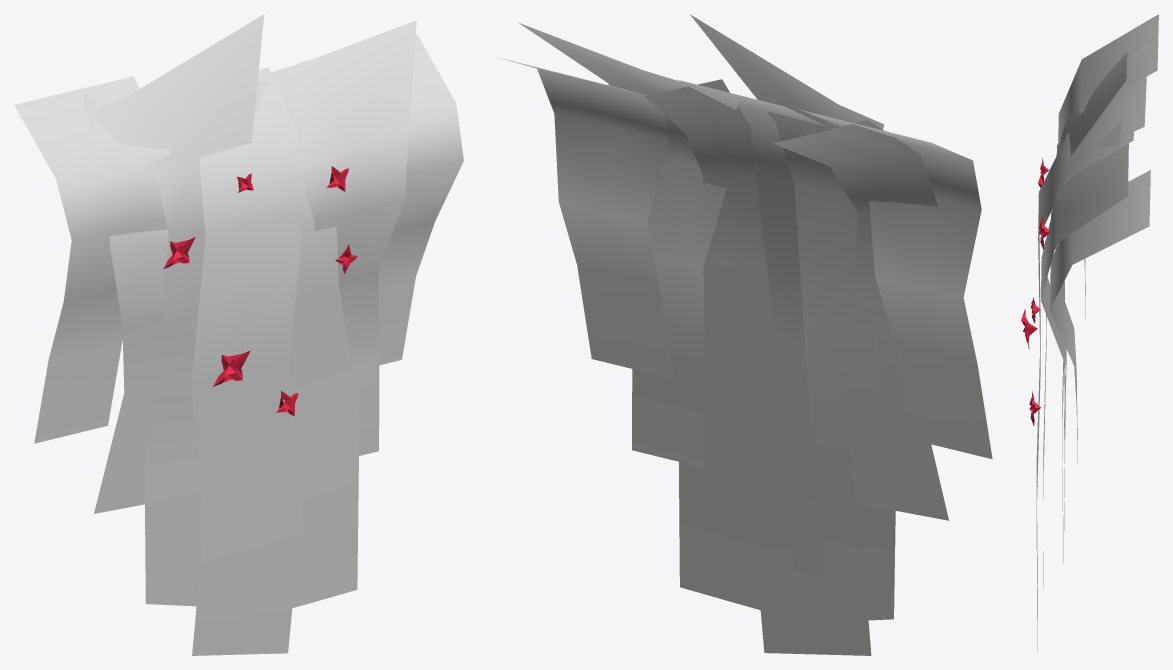
File: tropicalVines.fbx
The picture shows the model from 3 angles, left to right: view 1: azimuth 30°, elevation 25°; view 2: azimuth 150°, elevation 25°; view 3: azimuth 270°, elevation 25°; orthographic projection. The views are drawn at different scales.
Visible parts, largest first — view 1: Plane, Plane.004, Plane.001, Plane.006, Plane.002, Plane.005, Plane.003, Plane.008; view 2: Plane.002, Plane.004, Plane.003, Plane.006, Plane.001, Plane.005, Plane; view 3: Plane.001, Plane.003, Plane, Plane.006, Plane.004, Plane.005, Plane.002, Plane.008.
Part boxes in pixels (x1=…): Plane: x1=191, y1=67, x2=303, y2=655; Plane.004: x1=88, y1=14, x2=264, y2=606; Plane.001: x1=271, y1=20, x2=416, y2=455; Plane.006: x1=14, y1=76, x2=169, y2=443; Plane.002: x1=254, y1=80, x2=359, y2=607; Plane.005: x1=82, y1=92, x2=192, y2=513; Plane.003: x1=298, y1=34, x2=463, y2=365; Plane.008: x1=213, y1=350, x2=250, y2=386; Plane.002: x1=644, y1=79, x2=795, y2=619; Plane.004: x1=690, y1=14, x2=895, y2=622; Plane.003: x1=497, y1=57, x2=673, y2=378; Plane.006: x1=801, y1=110, x2=992, y2=459; Plane.001: x1=519, y1=23, x2=739, y2=467; Plane.005: x1=773, y1=120, x2=948, y2=520; Plane: x1=677, y1=79, x2=871, y2=655; Plane.001: x1=1041, y1=143, x2=1128, y2=531; Plane.003: x1=1050, y1=170, x2=1150, y2=463; Plane: x1=1036, y1=94, x2=1134, y2=651; Plane.006: x1=1058, y1=14, x2=1158, y2=318; Plane.004: x1=1051, y1=51, x2=1127, y2=562; Plane.005: x1=1056, y1=42, x2=1148, y2=437; Plane.002: x1=1043, y1=120, x2=1121, y2=588; Plane.008: x1=1021, y1=309, x2=1037, y2=348.
Bounding box in the file's own units: 239 × 330 × 70.43.
